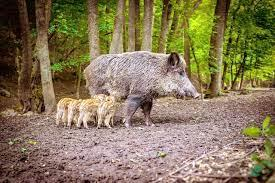wildboar: (84, 50, 202, 130)
